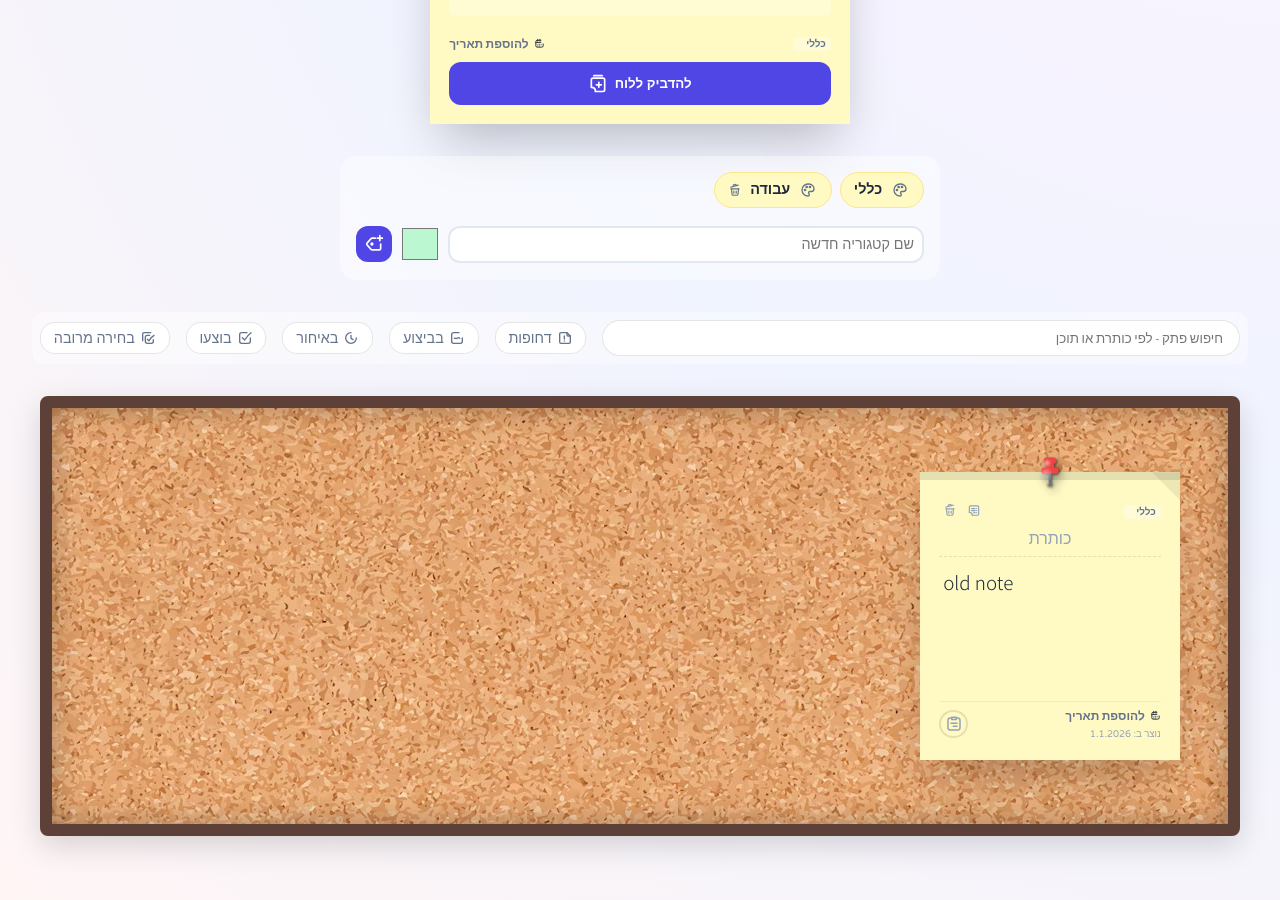
confirmation dialogs › the dialog for deleting a note closes with Escape
(page scrolled)
Click the button named "מחיקה". click: (950, 512)
box: [939,500,961,526]
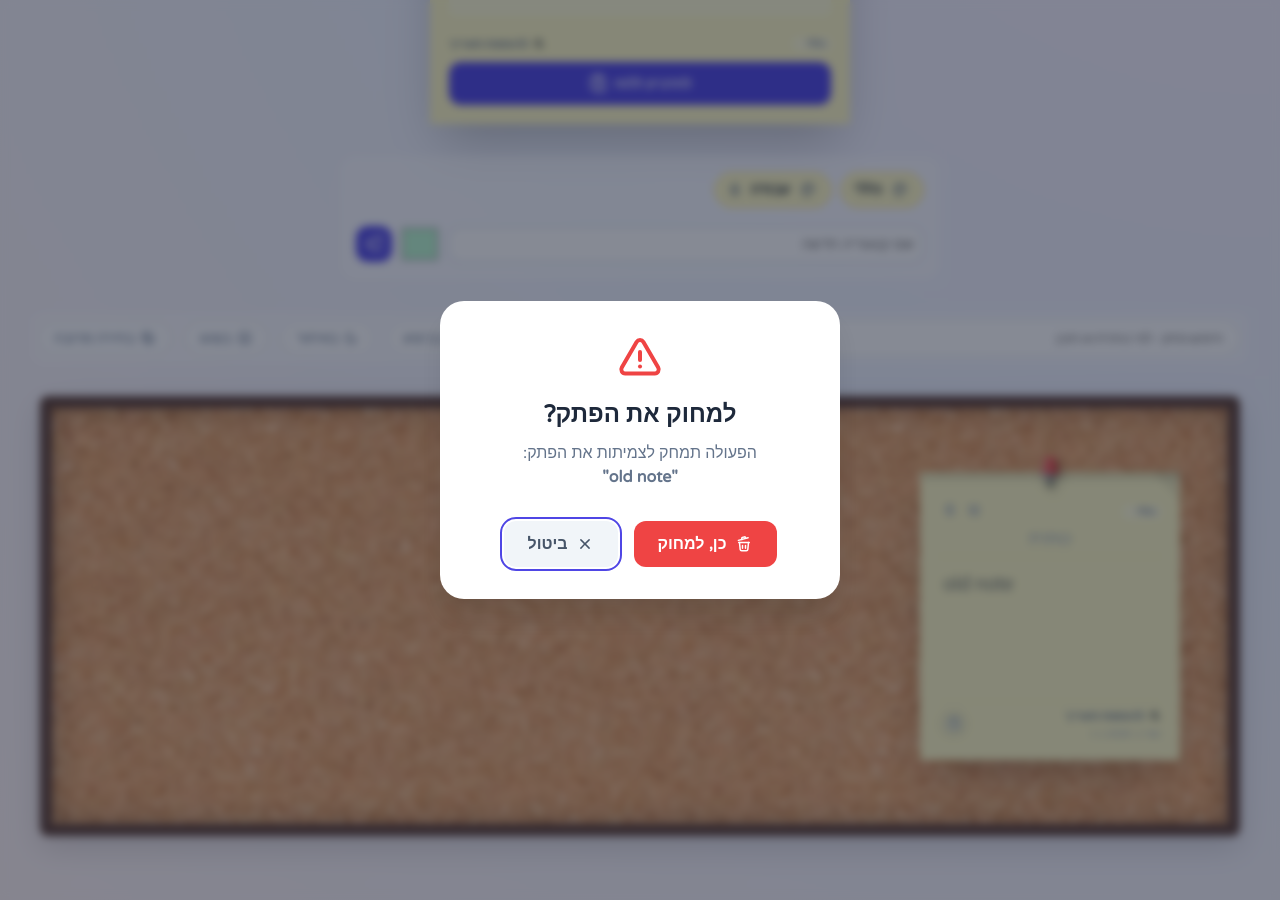
Type keys "[Escape]"
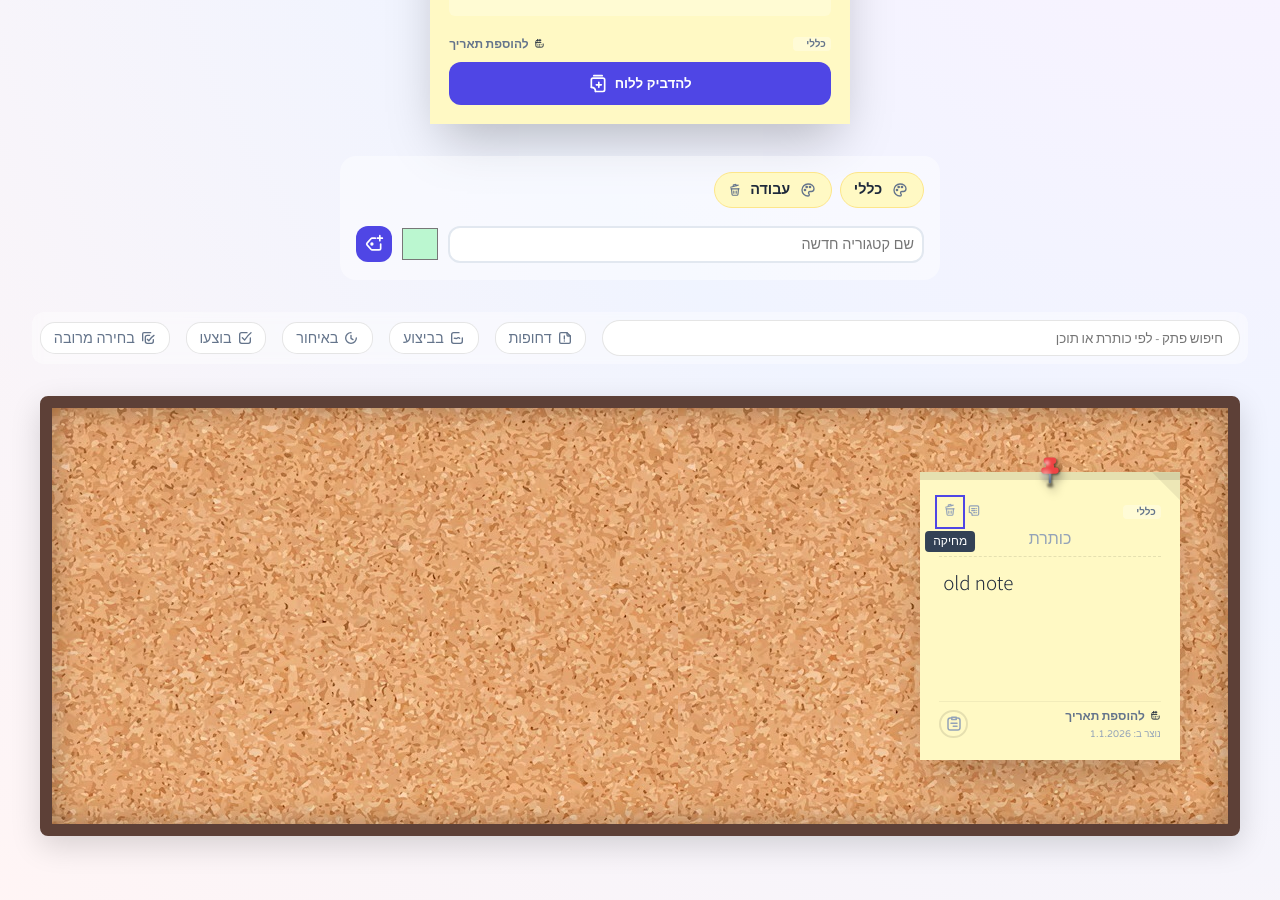
Now the dialog is gone
